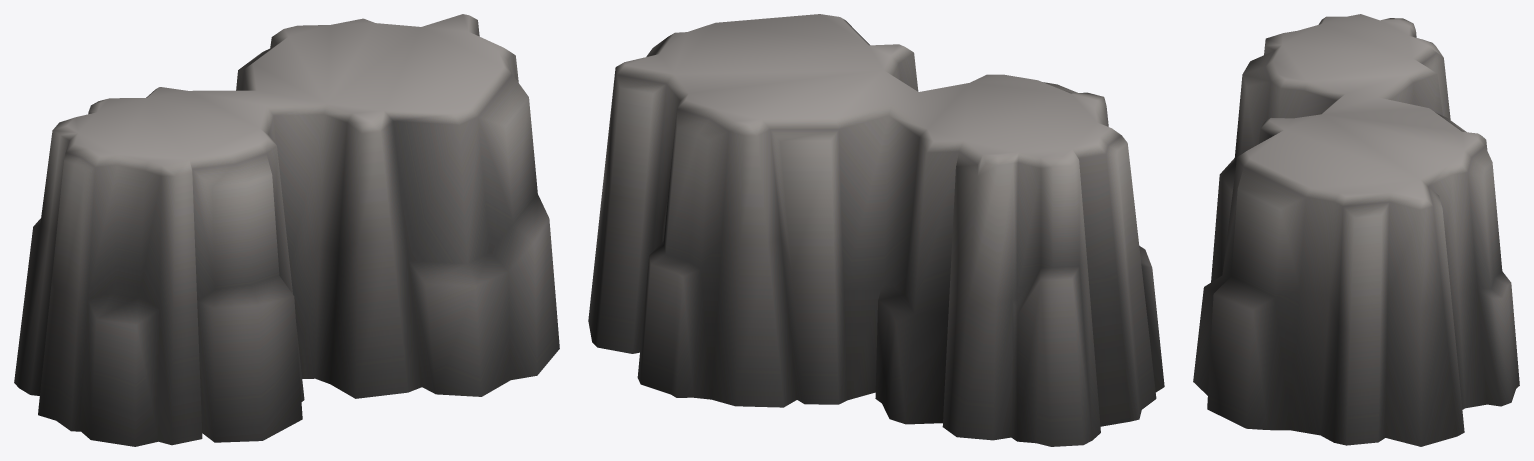
Rendered from m_Cliff01_A.fbx.
3 renders of one model, left to right at view 1: azimuth 30°, elevation 25°; view 2: azimuth 150°, elevation 25°; view 3: azimuth 270°, elevation 25°, orthographic. The views are drawn at different scales.
Visible parts, largest first — view 1: m_Cliff01_A; view 2: m_Cliff01_A; view 3: m_Cliff01_A.
Part boxes in pixels (left/top/right/bottom): m_Cliff01_A: left=14, top=14, right=559, bottom=446; m_Cliff01_A: left=588, top=14, right=1164, bottom=446; m_Cliff01_A: left=1193, top=14, right=1519, bottom=446.
Bounding box in the file's own units: 2016 × 1000 × 1278.
